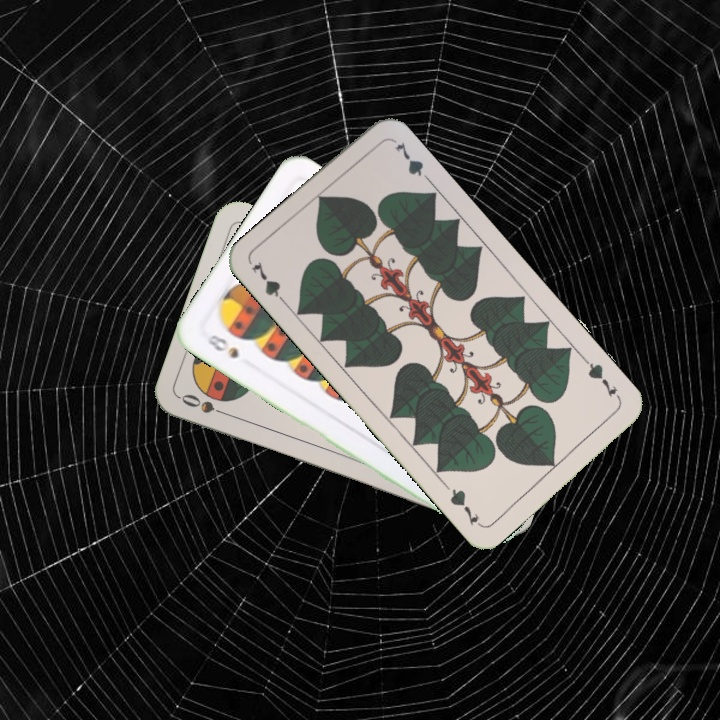G7: (247, 257, 291, 309), (580, 355, 624, 404)
S8: (203, 330, 242, 361)
SO: (177, 390, 234, 420)
